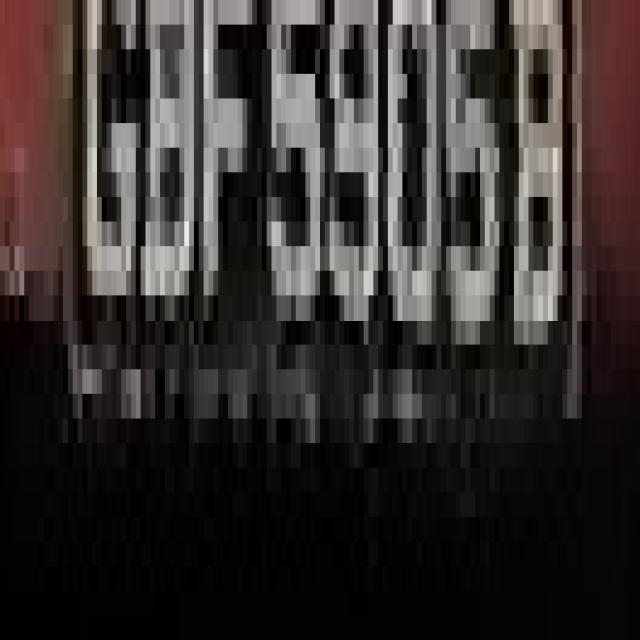0: (388, 24, 446, 344)
5: (446, 25, 514, 369), (267, 24, 325, 393)
9: (325, 49, 388, 296)
B: (136, 0, 199, 320), (509, 49, 567, 394)
F: (194, 0, 247, 320)
G: (72, 25, 140, 369)
